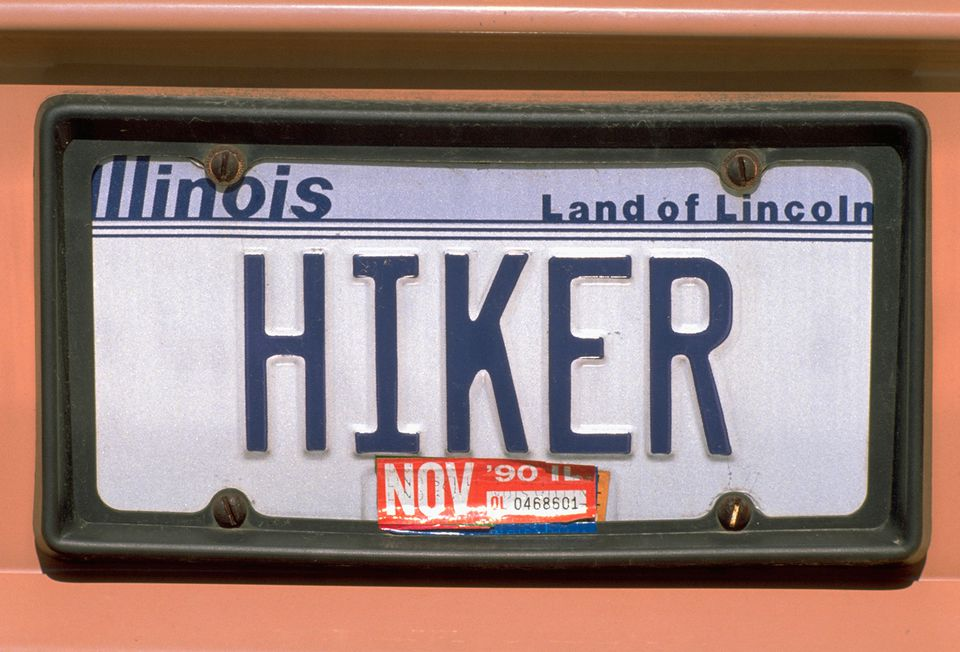license plate: (30, 93, 936, 597)
